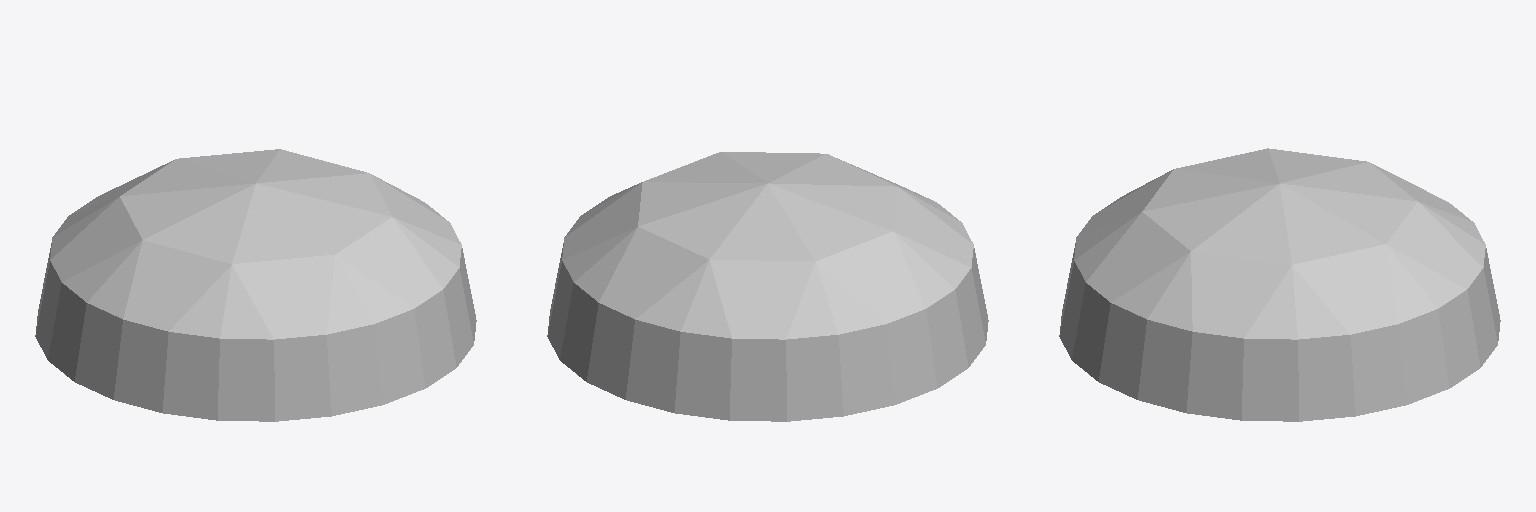
Rendered from Skybox6.obj.
The picture shows the model from 3 angles: view 1: azimuth 30°, elevation 25°; view 2: azimuth 150°, elevation 25°; view 3: azimuth 270°, elevation 25°; orthographic projection.
Visible parts, largest first — view 1: Object_2; view 2: Object_2; view 3: Object_2.
Boxes of the visible parts, box(x1,y1,x2,y2) form: Object_2: box(35, 149, 476, 421); Object_2: box(547, 152, 988, 421); Object_2: box(1059, 148, 1500, 421).
Bounding box in the file's own units: 99619 × 36138 × 99619.